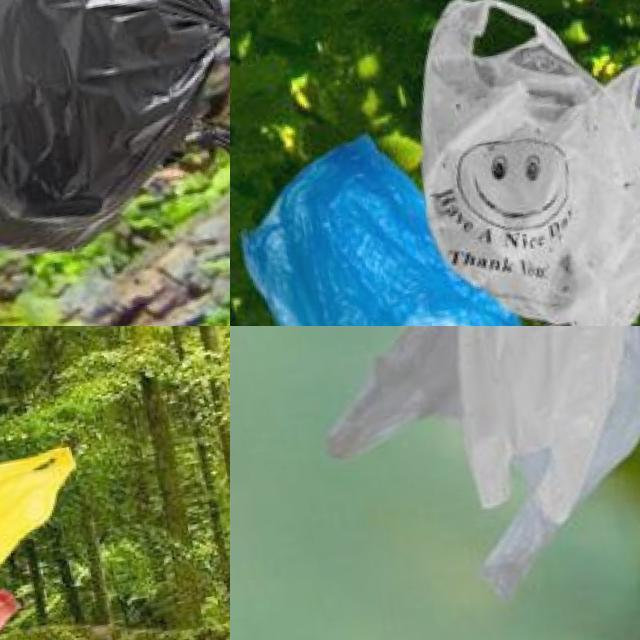waste: (285, 326, 640, 623), (398, 0, 640, 326), (230, 116, 546, 326), (0, 0, 230, 259), (0, 326, 98, 640)
